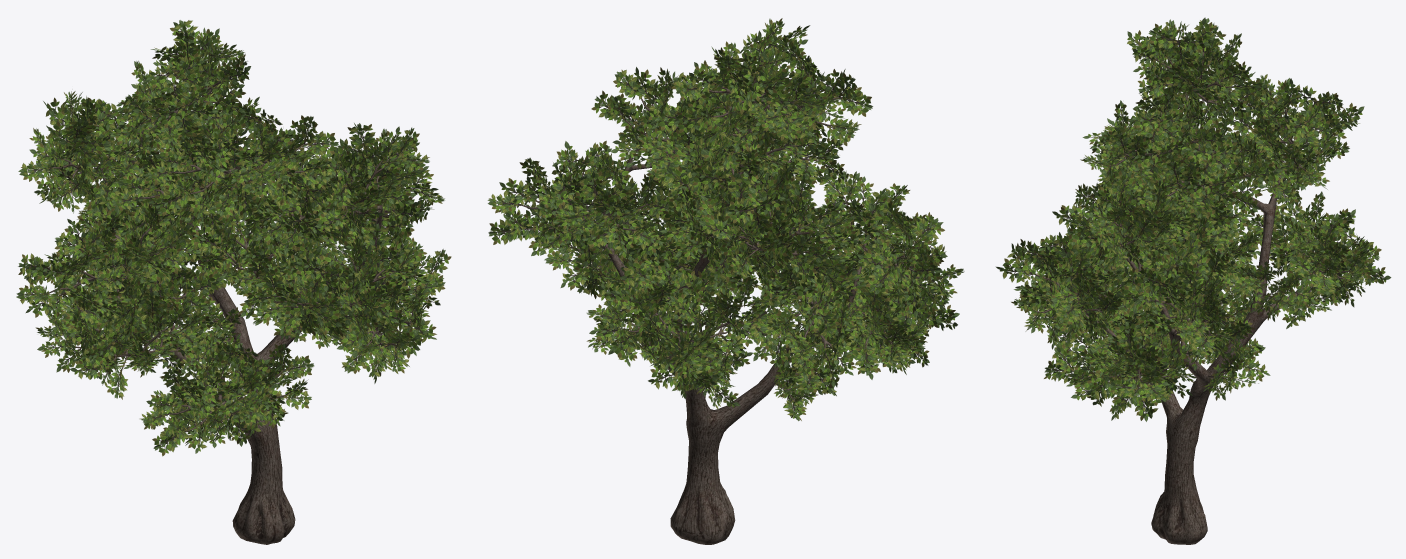
File: realistic_tree.glb
3 renders of one model, left to right at view 1: azimuth 30°, elevation 25°; view 2: azimuth 150°, elevation 25°; view 3: azimuth 270°, elevation 25°, orthographic. The views are drawn at different scales.
Parts seen in each view (by area): view 1: crown merged_normal leaves_0, br_low_trunk_0; view 2: crown merged_normal leaves_0, br_low_trunk_0; view 3: crown merged_normal leaves_0, br_low_trunk_0.
Boxes of the visible parts, x1,y1,x2,y2 form: crown merged_normal leaves_0: (16, 20, 451, 456); br_low_trunk_0: (47, 57, 414, 544); crown merged_normal leaves_0: (487, 18, 964, 420); br_low_trunk_0: (521, 54, 932, 544); crown merged_normal leaves_0: (996, 17, 1391, 421); br_low_trunk_0: (1031, 50, 1349, 544).
Bounding box in the file's own units: 14.35 × 16.05 × 11.72.
2 materials, 2 textured.
